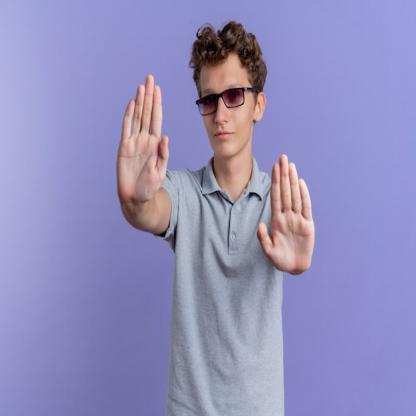stop: (256, 153, 317, 278), (116, 72, 172, 204)
